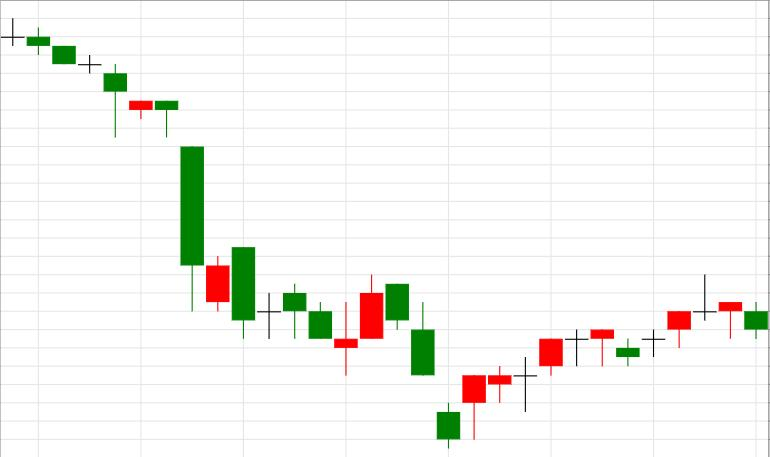morning_star_rise: (180, 146, 383, 376)
